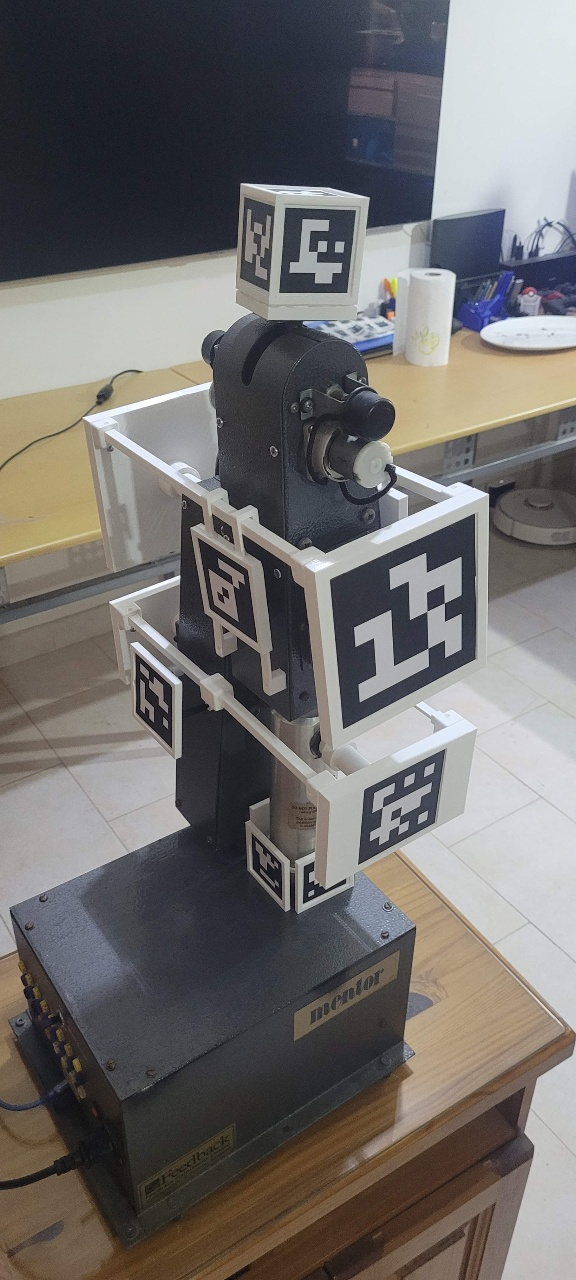Robot: (26, 189, 485, 978)
